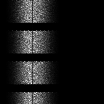wifi: (6, 29, 59, 53), (6, 60, 59, 84), (6, 0, 59, 22), (6, 91, 59, 104)
